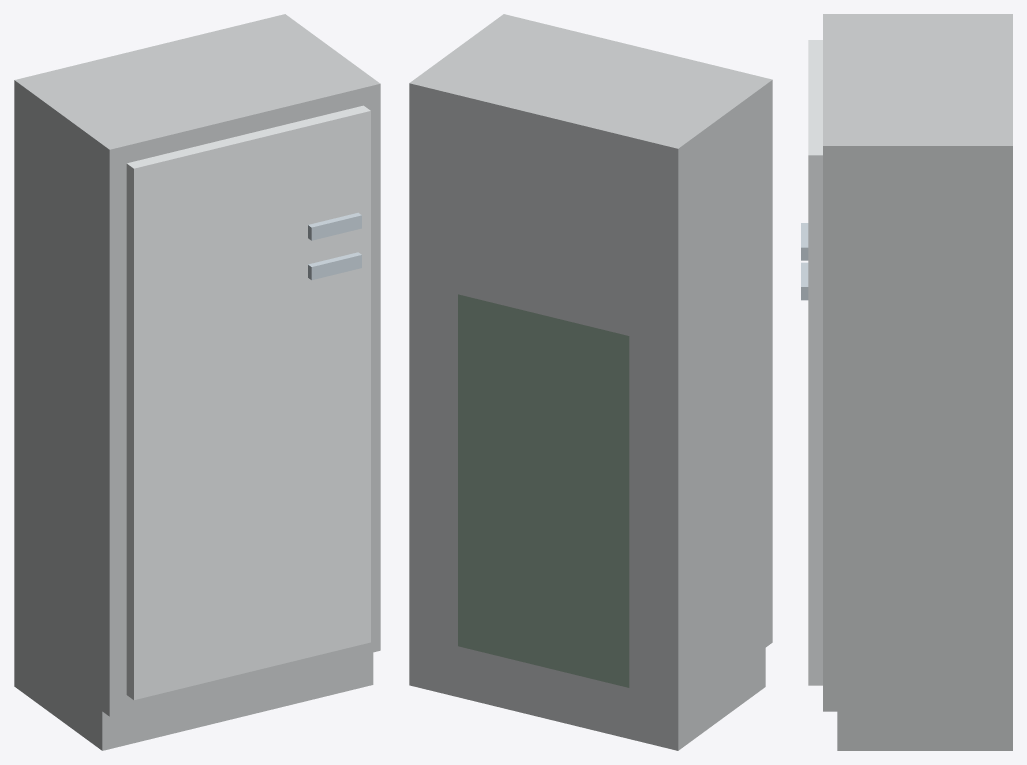
Rendered from kitchenFridge.glb.
The picture shows the model from 3 angles, left to right: view 1: azimuth 30°, elevation 25°; view 2: azimuth 150°, elevation 25°; view 3: azimuth 270°, elevation 25°; orthographic projection.
Parts seen in each view (by area): view 1: kitchenFridge(Clone), doorFridge, doorFreezer; view 2: kitchenFridge(Clone); view 3: kitchenFridge(Clone), doorFridge, doorFreezer.
Boxes of the visible parts, <box> form: kitchenFridge(Clone): <box>14,14,380,750</box>; doorFridge: <box>126,236,370,699</box>; doorFreezer: <box>126,105,370,293</box>; kitchenFridge(Clone): <box>409,14,772,750</box>; kitchenFridge(Clone): <box>823,14,1012,750</box>; doorFridge: <box>801,262,822,685</box>; doorFreezer: <box>801,40,822,279</box>.
Bounding box in the file's own units: 0.43 × 0.92 × 0.2919.
